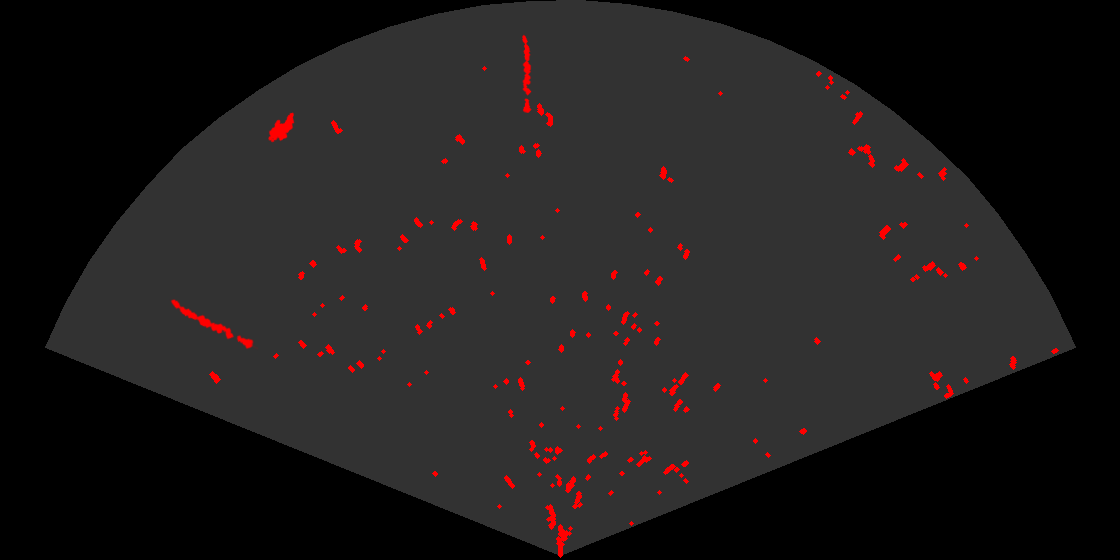AUV: (267, 111, 296, 144)
chain: (169, 298, 258, 351), (521, 33, 533, 113)
